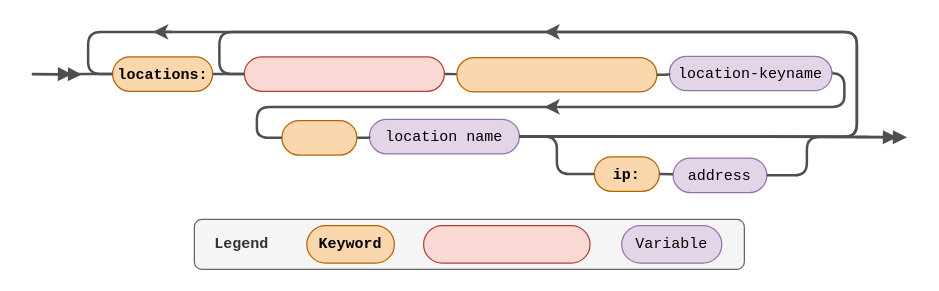
This 939x291 diagram has some shape labels left out. The centre of each missing label's shape, as x and y in pixels:
"Class Identifier" belongs at (506,243).
"location-identifier:" belongs at (556,74).
"location-keyname:" belongs at (343,73).
"name:" belongs at (319,137).
